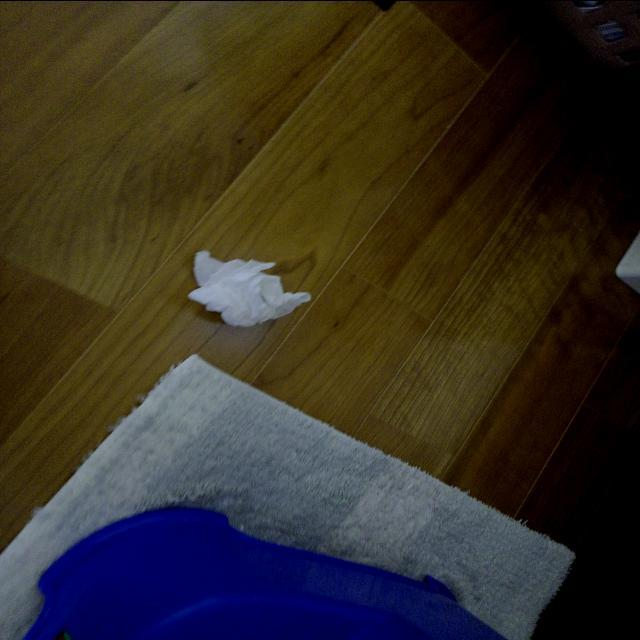Paper: (180, 231, 332, 343)
